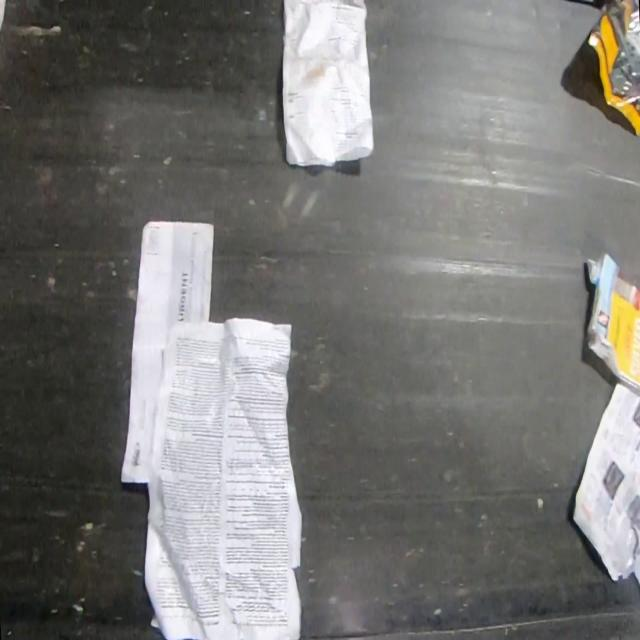cardboard: (585, 249, 640, 393)
soft_plastic: (587, 0, 640, 139)
